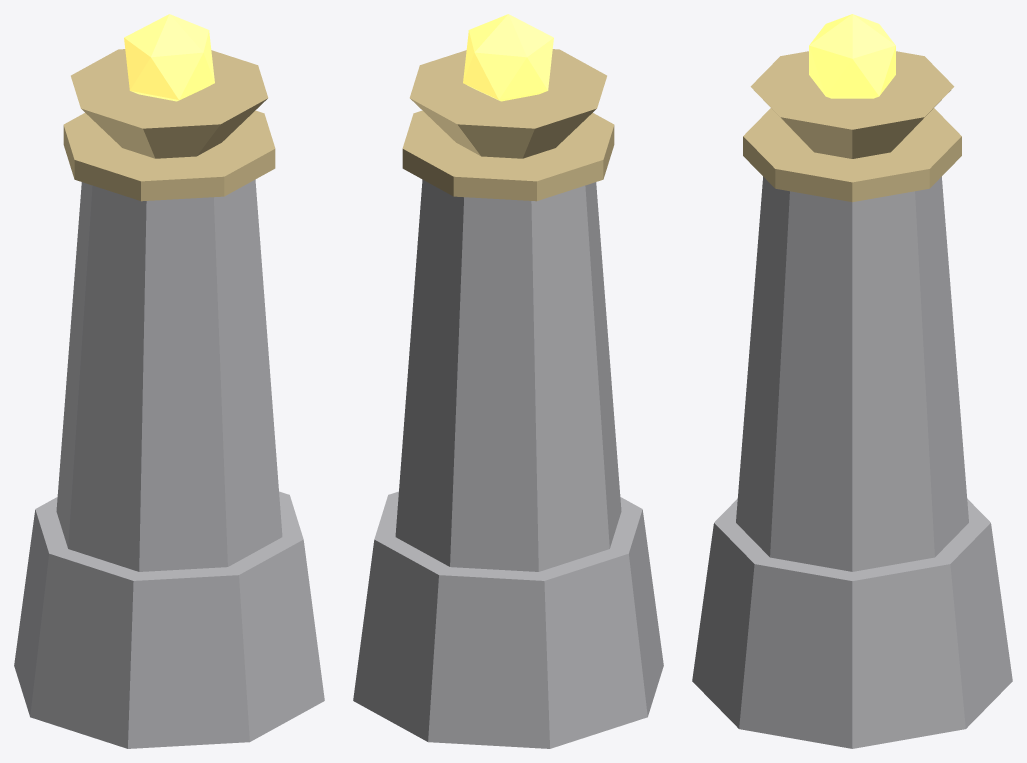
The picture shows the model from 3 angles, left to right: view 1: azimuth 30°, elevation 25°; view 2: azimuth 150°, elevation 25°; view 3: azimuth 270°, elevation 25°; orthographic projection.
Parts seen in each view (by area): view 1: tower, base, bowl, ring, flame; view 2: tower, base, bowl, ring, flame; view 3: tower, base, bowl, ring, flame.
Boxes of the visible parts, box(x1,y1,x2,y2) form: tower: box(56, 179, 282, 571); base: box(14, 491, 324, 748); bowl: box(71, 49, 268, 158); ring: box(63, 110, 275, 201); flame: box(124, 14, 214, 101); tower: box(395, 179, 621, 571); base: box(353, 491, 663, 748); bowl: box(409, 49, 606, 158); ring: box(402, 110, 614, 201); flame: box(463, 14, 553, 101); tower: box(736, 176, 968, 571); base: box(692, 499, 1012, 748); bowl: box(750, 51, 954, 158); ring: box(743, 108, 961, 202); flame: box(809, 14, 895, 98).
Size of the model in its own units: 2.2 by 5.05 by 2.2.
